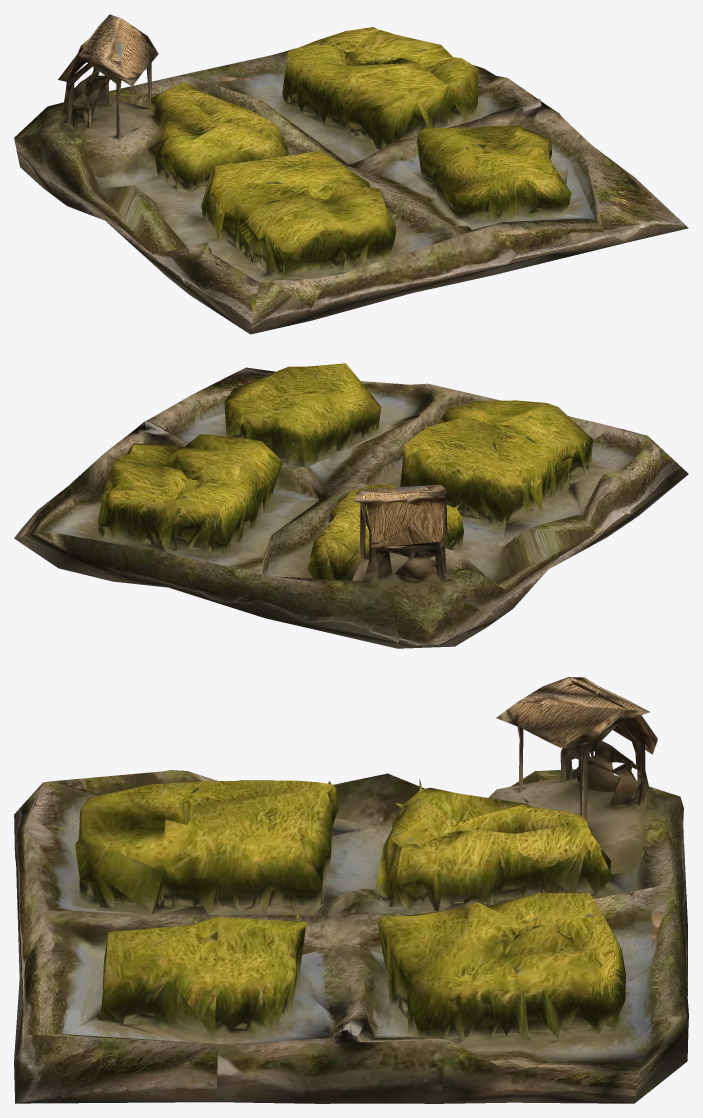
File: rice_paddy_2.glb
The picture shows the model from 3 angles, top to bottom: view 1: azimuth 30°, elevation 25°; view 2: azimuth 150°, elevation 25°; view 3: azimuth 270°, elevation 25°; orthographic projection. The views are drawn at different scales.
Visible parts, largest first — view 1: tripo_node_95b616d5-cb4f-4568-b6a8-cd8f722c924c; view 2: tripo_node_95b616d5-cb4f-4568-b6a8-cd8f722c924c; view 3: tripo_node_95b616d5-cb4f-4568-b6a8-cd8f722c924c.
Boxes of the visible parts, bbox=[...] form: tripo_node_95b616d5-cb4f-4568-b6a8-cd8f722c924c: bbox=[14, 14, 688, 334]; tripo_node_95b616d5-cb4f-4568-b6a8-cd8f722c924c: bbox=[14, 363, 688, 648]; tripo_node_95b616d5-cb4f-4568-b6a8-cd8f722c924c: bbox=[14, 677, 688, 1103].
Size of the model in its own units: 0.9735 by 0.2691 by 0.9532.
Materials: 1 (1 with a texture image).
